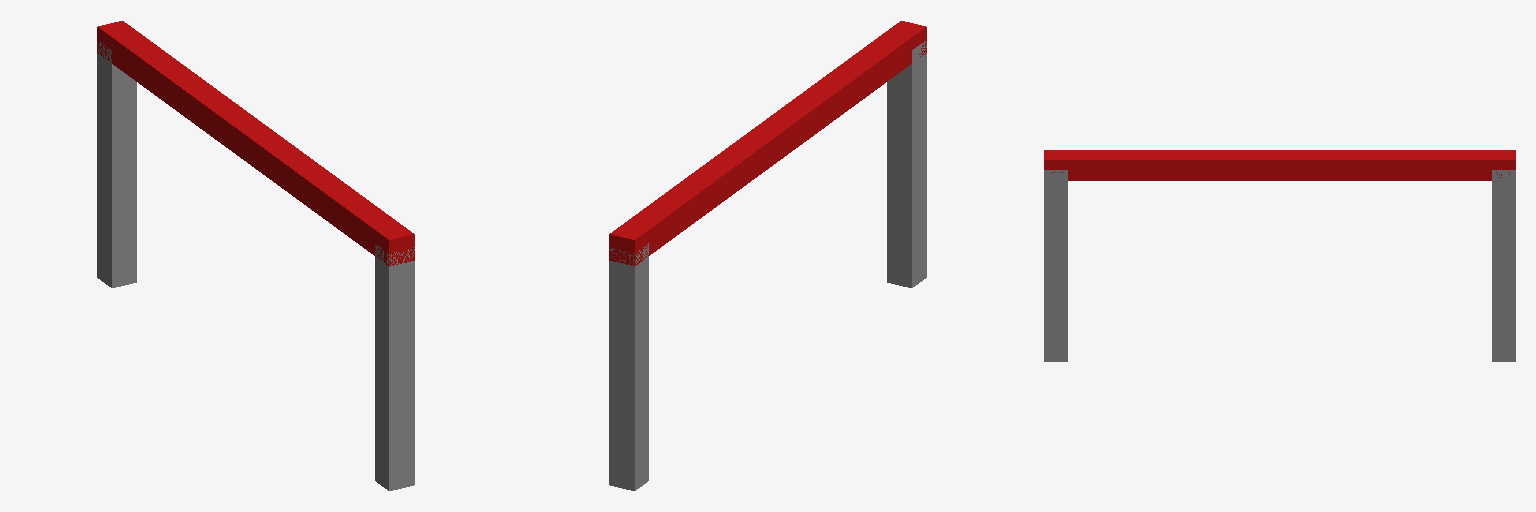
URDF robot description (low_bar):
<?xml version="1.0"?>
<!--
  ROBOCON low-bar (限高杆 / 矮门) obstacle.

  Single rigid link whose body origin is the CROSS-BAR CENTRE, so the generator
  can set the clearance simply by placing the rigid-body pose at
  z = clearance + half_thickness.  All three collision boxes live in this one
  link so each parallel env costs exactly ONE actor (not three).

  Competition geometry (RC_WheelLeg competition_terrains.py / nav XML):
    clearance ~ 0.30 m, bar width ~ 1.0 m, bar cross-section ~ 0.05 m.
  Posts are a fixed 0.45 m long so they still reach the ground across the whole
  clearance curriculum [0.25, 0.35] m (they sink slightly into the ground at the
  low end, which is harmless for a fixed-base, gravity-free actor).
-->
<robot name="low_bar">
  <link name="low_bar">
    <!-- cross bar: width along y -->
    <collision name="cross_bar">
      <origin xyz="0 0 0" rpy="0 0 0"/>
      <geometry><box size="0.05 1.0 0.05"/></geometry>
    </collision>
    <visual name="cross_bar_vis">
      <origin xyz="0 0 0" rpy="0 0 0"/>
      <geometry><box size="0.05 1.0 0.05"/></geometry>
      <material name="bar_red"><color rgba="0.80 0.10 0.10 1.0"/></material>
    </visual>

    <!-- left / right support posts -->
    <collision name="post_pos_y">
      <origin xyz="0 0.475 -0.225" rpy="0 0 0"/>
      <geometry><box size="0.05 0.05 0.45"/></geometry>
    </collision>
    <visual name="post_pos_y_vis">
      <origin xyz="0 0.475 -0.225" rpy="0 0 0"/>
      <geometry><box size="0.05 0.05 0.45"/></geometry>
      <material name="post_grey"><color rgba="0.6 0.6 0.6 1.0"/></material>
    </visual>
    <collision name="post_neg_y">
      <origin xyz="0 -0.475 -0.225" rpy="0 0 0"/>
      <geometry><box size="0.05 0.05 0.45"/></geometry>
    </collision>
    <visual name="post_neg_y_vis">
      <origin xyz="0 -0.475 -0.225" rpy="0 0 0"/>
      <geometry><box size="0.05 0.05 0.45"/></geometry>
      <material name="post_grey"><color rgba="0.6 0.6 0.6 1.0"/></material>
    </visual>
  </link>
</robot>

--- Facts derived from the render (not from the file) ---
Views: 3 orthographic renders of the robot side by side, from view 1: azimuth 30°, elevation 25°; view 2: azimuth 150°, elevation 25°; view 3: azimuth 270°, elevation 25°.
Model low_bar with 1 links and 0 joints (none), rooted at low_bar, posed all joints at 0.
Visible links, largest first — view 1: low_bar; view 2: low_bar; view 3: low_bar.
Link boxes in pixels (box(x1,y1,x2,y2)): low_bar: box(97, 21, 414, 490); low_bar: box(609, 21, 926, 490); low_bar: box(1044, 150, 1515, 361).
Size in the robot's own frame: 0.05 by 1 by 0.475 metres.
Geometry: primitives only (box / cylinder / sphere), no mesh files.
